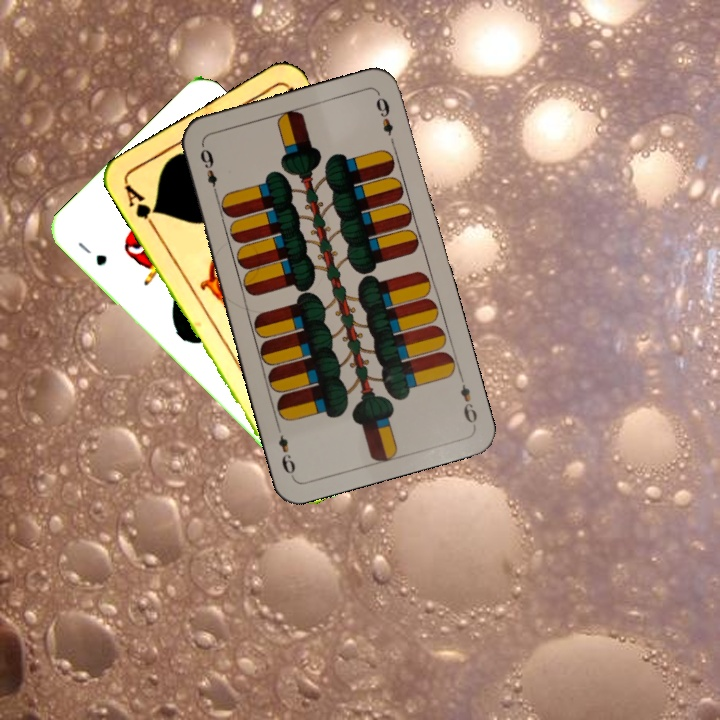E9: (196, 141, 221, 199), (455, 370, 480, 428)
GA: (120, 180, 160, 233)
GU: (73, 237, 110, 269)
